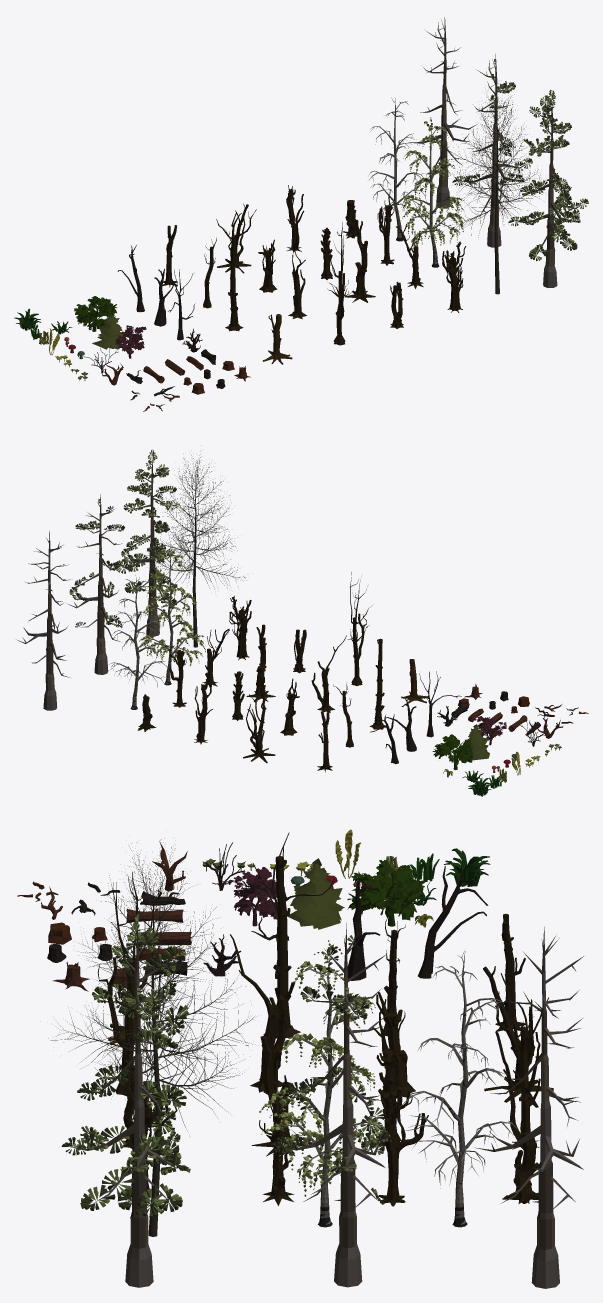
File: Nature.assets.fbx
The picture shows the model from 3 angles, top to bottom: view 1: azimuth 30°, elevation 25°; view 2: azimuth 150°, elevation 25°; view 3: azimuth 270°, elevation 25°; orthographic projection. The views are drawn at different scales.
Parts seen in each view (by area): view 1: Cylinder.013, tree.045, Cylinder, Cylinder.012, Cylinder.008, Cylinder.001, tree oak joined, tree.012, tree.016, tree.004, tree.000, tree.002 (+6 smaller); view 2: Cylinder.013, tree.045, Cylinder, Cylinder.012, Cylinder.008, Cylinder.001, tree oak joined, tree.000, tree.016, tree.012, tree.004, tree.002 (+6 smaller); view 3: Cylinder.013, tree.045, Cylinder.012, Cylinder, Cylinder.008, Cylinder.001, tree oak joined, tree pine joined, tree.007, tree.011, tree.016, tree.002 (+15 smaller).
Part boxes in pixels (x1,y1,x2,y2): Cylinder.013: (508, 89, 588, 287); tree.045: (449, 83, 551, 294); Cylinder: (401, 117, 464, 267); Cylinder.012: (452, 54, 532, 247); Cylinder.008: (408, 17, 477, 208); Cylinder.001: (369, 97, 426, 241); tree oak joined: (74, 296, 116, 331); tree.012: (442, 241, 465, 312); tree.016: (323, 222, 351, 345); tree.004: (344, 219, 375, 302); tree.000: (216, 203, 256, 273); tree.002: (225, 235, 243, 331); Cylinder.013: (115, 449, 179, 636); tree.045: (145, 445, 245, 647); Cylinder: (138, 545, 205, 685); Cylinder.012: (68, 494, 124, 674); Cylinder.008: (16, 531, 70, 710); Cylinder.001: (107, 575, 169, 709); tree oak joined: (432, 734, 473, 770); tree.000: (243, 685, 275, 763); tree.016: (347, 572, 372, 685); tree.012: (229, 595, 251, 660); tree.004: (246, 624, 275, 701); tree.002: (369, 638, 385, 729); Cylinder.013: (61, 914, 190, 1287); tree.045: (48, 839, 254, 1236); Cylinder.012: (270, 923, 388, 1287); Cylinder: (259, 940, 391, 1227); Cylinder.008: (475, 927, 583, 1288); Cylinder.001: (399, 951, 522, 1227); tree oak joined: (347, 860, 425, 926); tree pine joined: (287, 858, 344, 929); tree.007: (495, 1023, 541, 1149); tree.011: (379, 1090, 428, 1206); tree.016: (97, 872, 160, 1096); tree.002: (273, 856, 300, 1038).
Size of the model in its own units: 7260 by 3211 by 3882.
